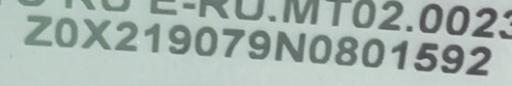letter: (274, 28, 306, 64), (80, 16, 114, 49), (22, 12, 54, 47), (192, 24, 220, 58), (218, 25, 246, 59), (412, 39, 440, 73), (166, 21, 192, 57), (463, 43, 493, 74), (52, 15, 80, 48), (112, 19, 140, 52), (332, 33, 360, 66), (358, 35, 386, 68), (439, 41, 465, 76), (246, 27, 272, 61), (307, 33, 333, 64), (388, 36, 410, 71), (141, 21, 161, 54)
